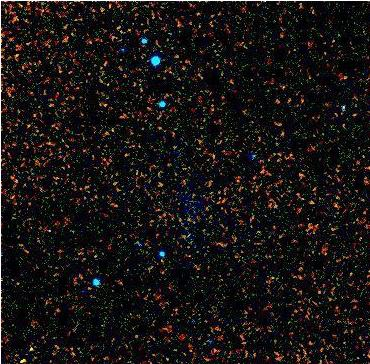star: (15, 335, 45, 364)
